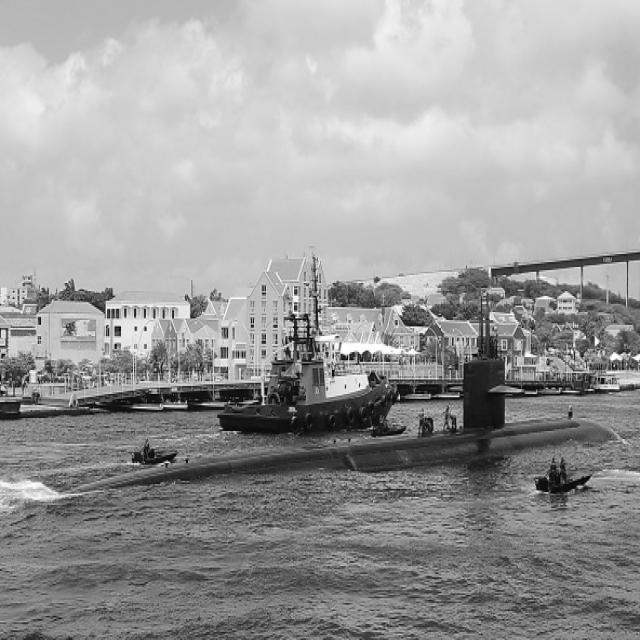submarine: (1, 326, 609, 527)
